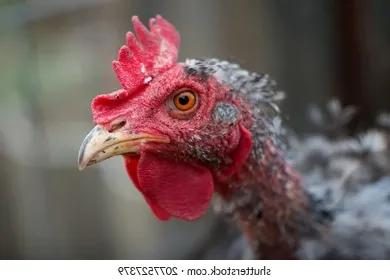AbNormal: (92, 14, 182, 125)
